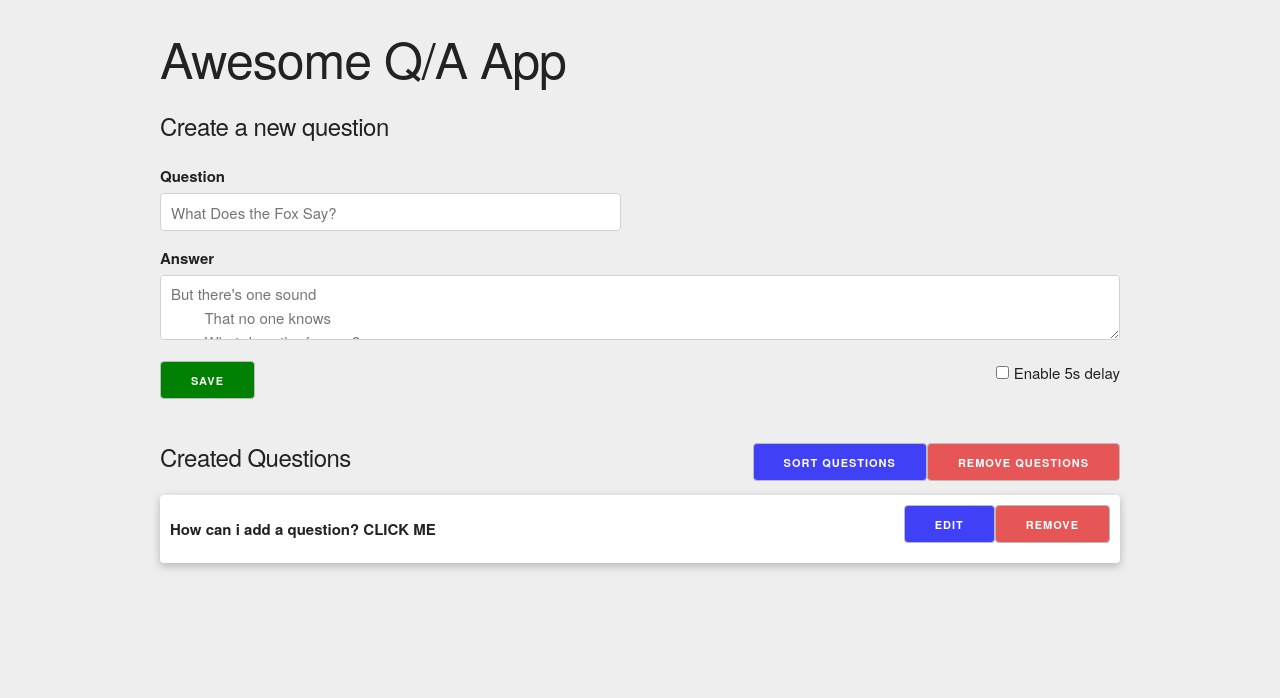
Test: Question › Edit added Question
Click the button with class "button-blue" showing "Edit" at (950, 524), box [904,505,995,543]
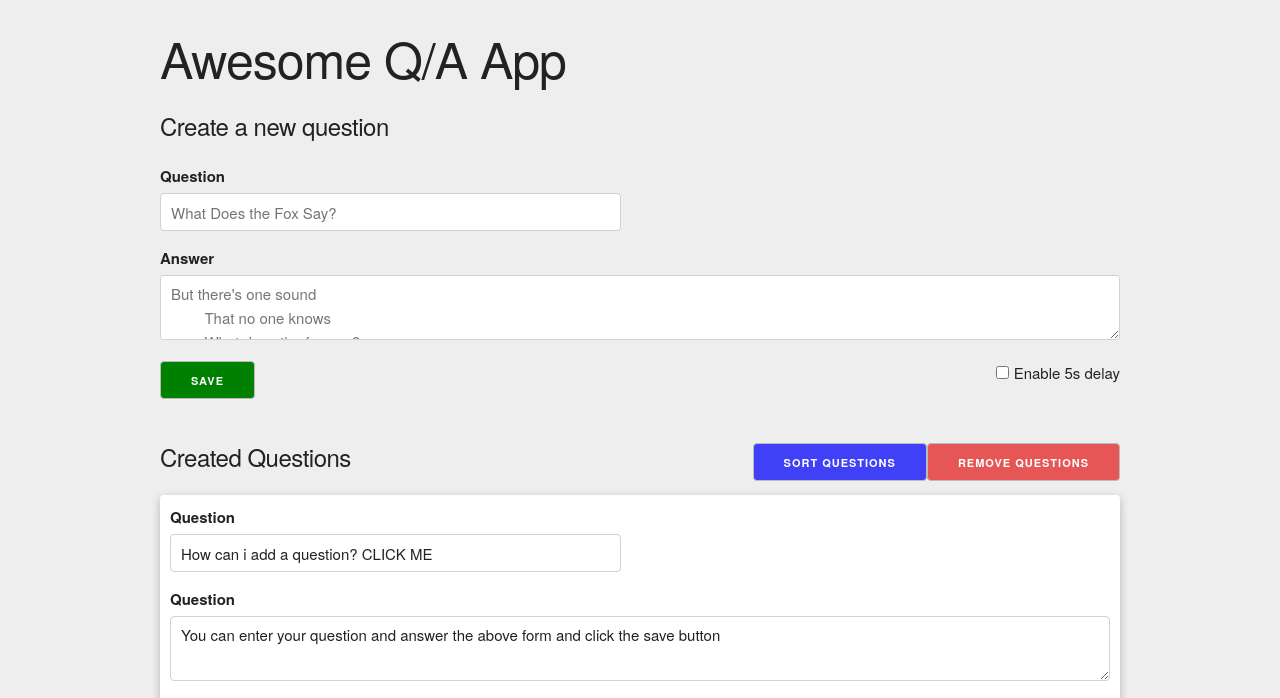
Replace the text in the 2nd field with "EDIT QUESTION" at (396, 553), box [170,534,621,572]
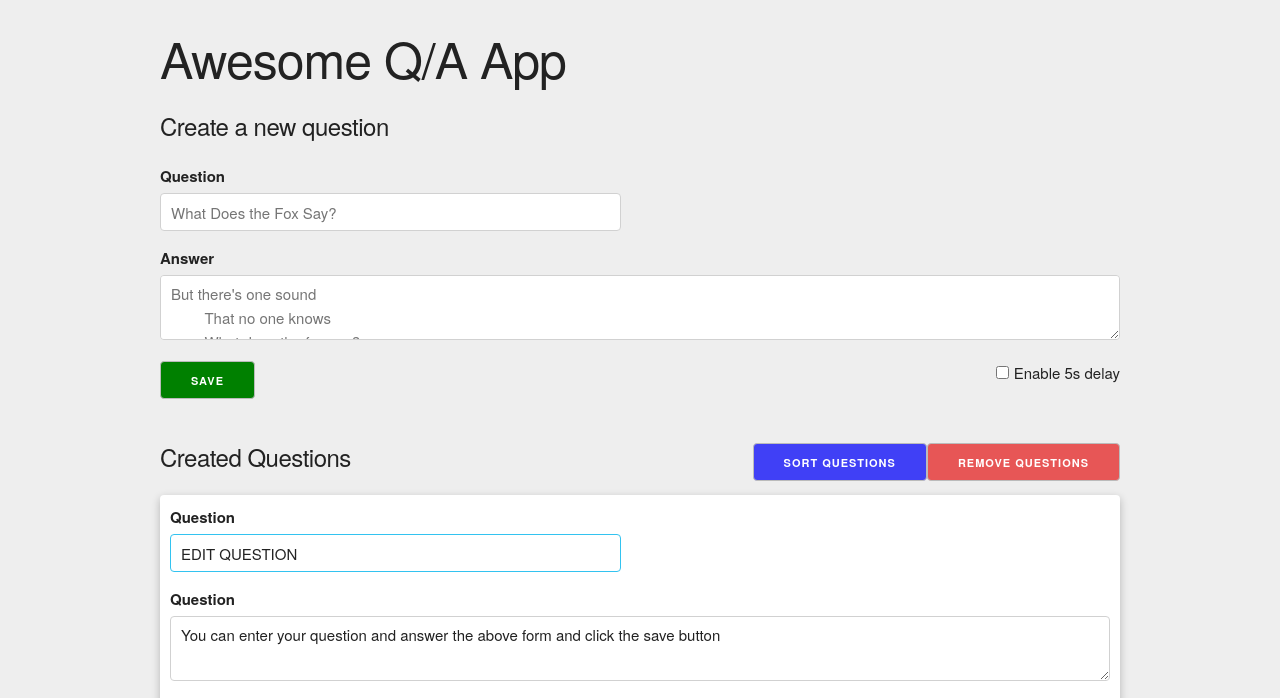
Replace the text in the 2nd text box with "EDIT ANSWER" at (640, 649), box [170,616,1110,681]
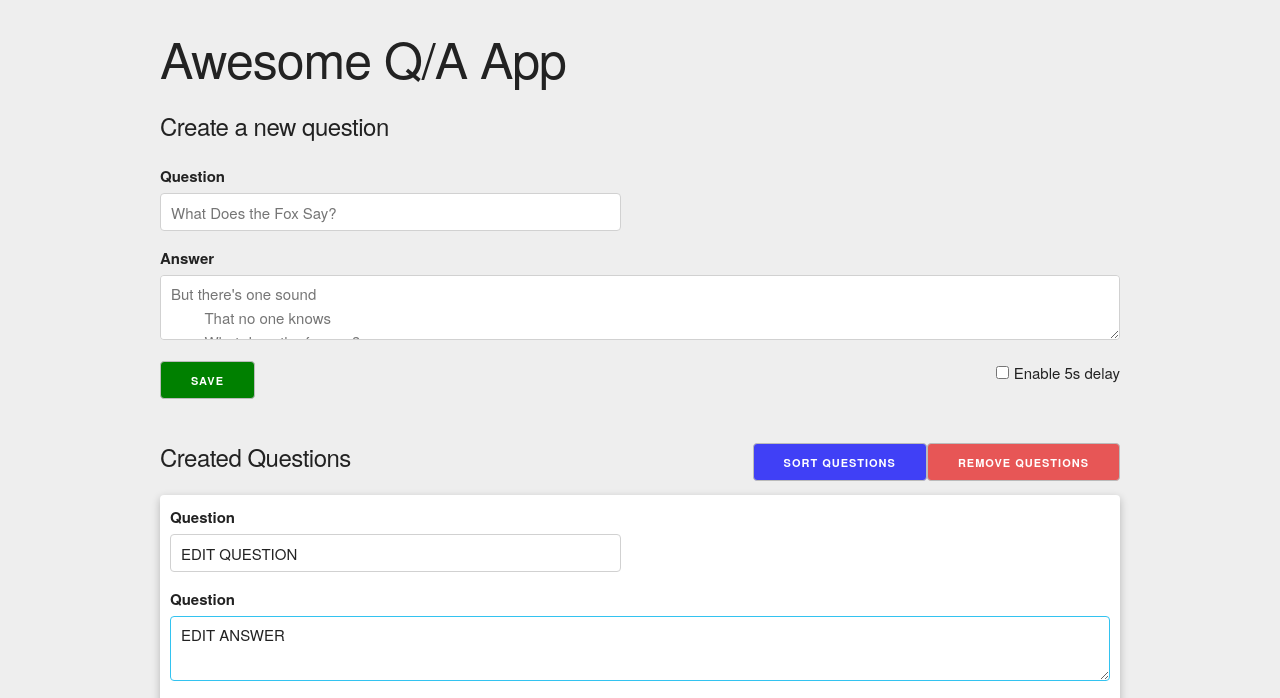
Scroll
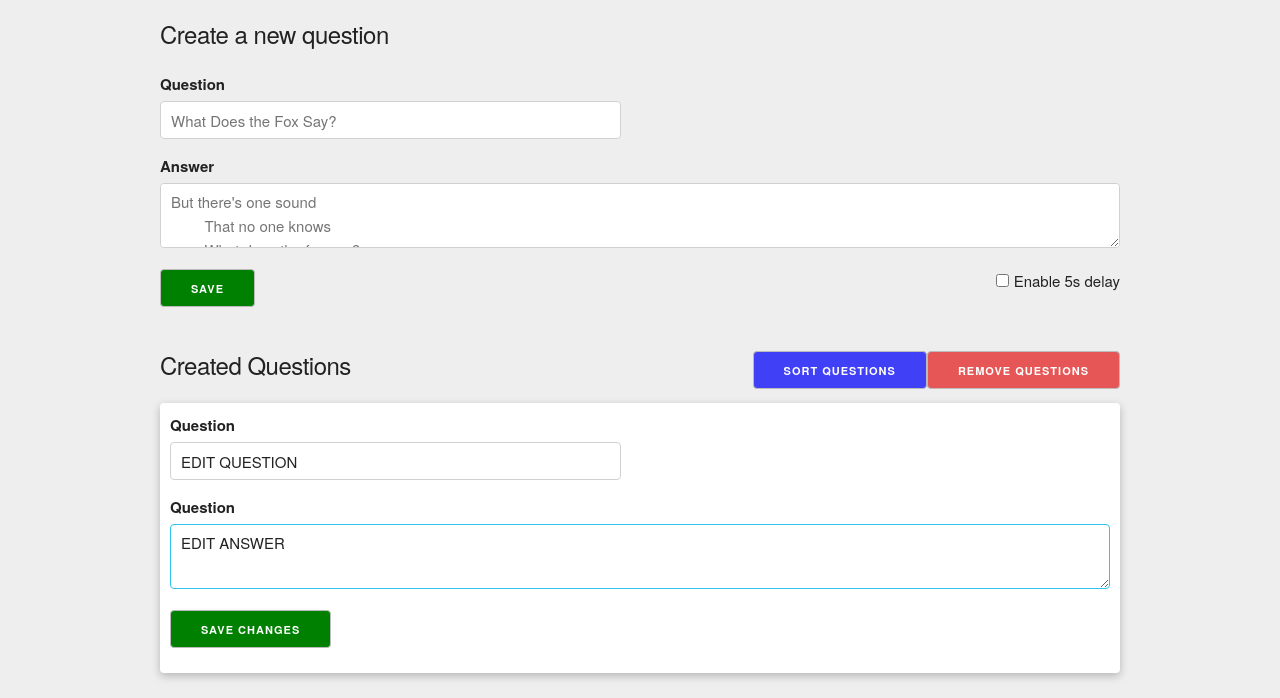
Click the button with class "button-green" showing "Save Changes" at (251, 629), box [170,610,331,648]
(page scrolled)
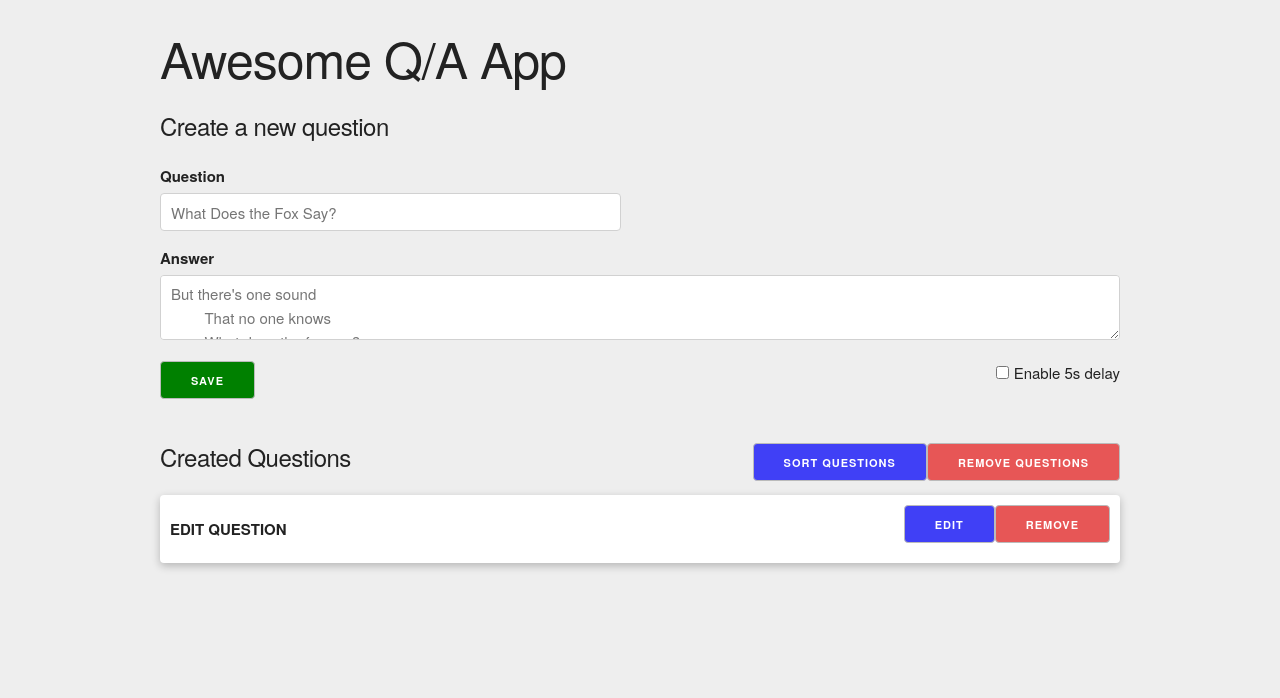
Now the text "EDIT QUESTION" is shown
Click the text "EDIT QUESTION" at (229, 529), box [170,518,287,540]
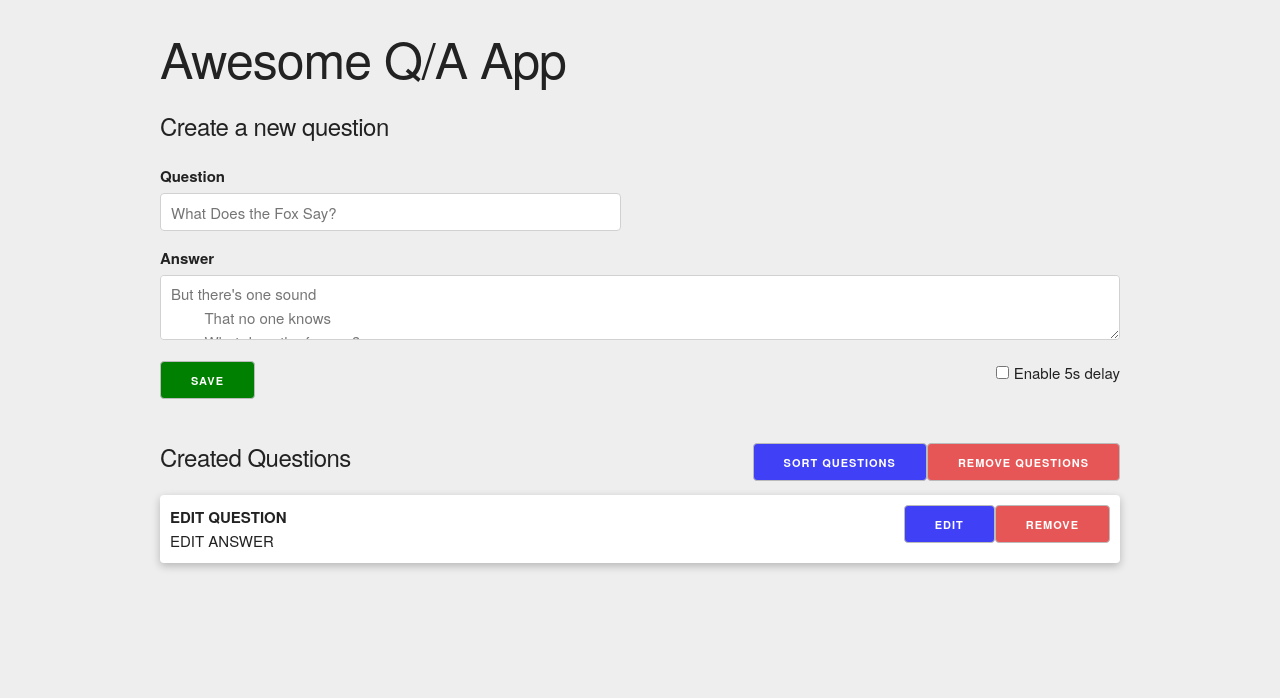
Now the text "EDIT ANSWER" is shown, box [170,529,287,553]
